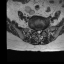CCS_stenosis: (38, 28, 40, 35)
LFS_severe_stenosis: (42, 28, 44, 32)
LLS_stenosis: (40, 28, 42, 33)
RFS_severe_stenosis: (34, 27, 36, 33)
RLS_stenosis: (36, 28, 38, 34)
